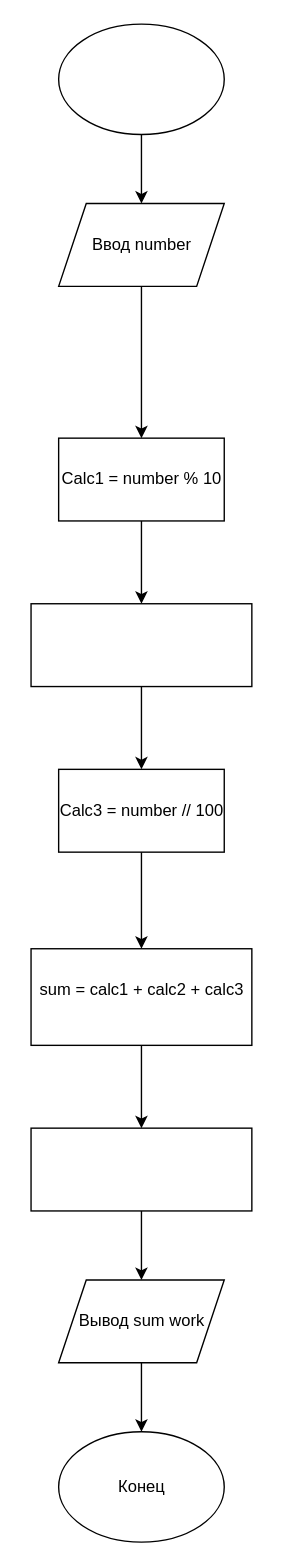
This 287x1566 diagram has some shape labels left out. The shapes that lost their labels are listed below. From the top down, each one's box as (x1, y1, x2, y2) in pixels, then its label:
(57, 23, 224, 135): Начало
(30, 602, 252, 687): Calc2 = number % 100 // 10
(30, 1127, 252, 1211): work = calc1 * calc2 * calc3
